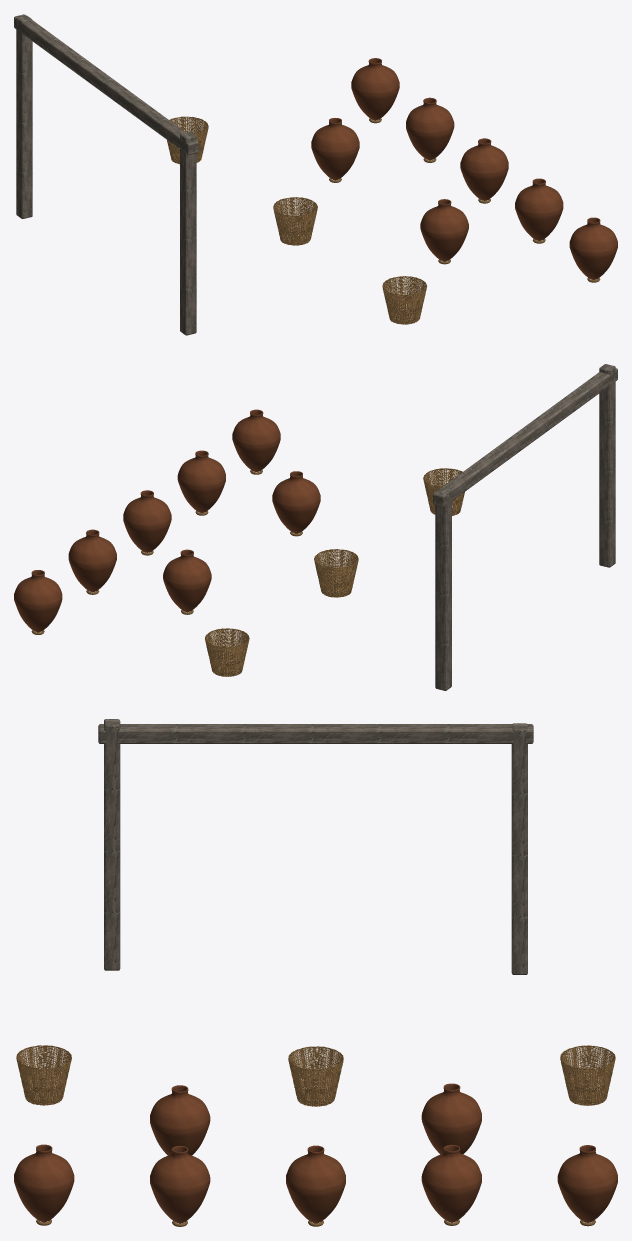
The model's file is storage.glb.
3 renders of one model, top to bottom at view 1: azimuth 30°, elevation 25°; view 2: azimuth 150°, elevation 25°; view 3: azimuth 270°, elevation 25°, orthographic. The views are drawn at different scales.
Parts seen in each view (by area): view 1: Storage rack beam, Storage rack upright.001, Storage rack upright, HERO | jar.013, HERO | jar.012, HERO | jar.009, HERO | jar.011, HERO | jar.008, HERO | jar.010, HERO | jar.014, HERO | basket fibres.008, HERO | basket fibres.009 (+1 smaller); view 2: Storage rack beam, Storage rack upright.001, Storage rack upright, HERO | jar.009, HERO | jar.012, HERO | jar.008, HERO | jar.010, HERO | jar.011, HERO | jar.014, HERO | jar.013, HERO | basket fibres.009, HERO | basket fibres.010 (+1 smaller); view 3: Storage rack beam, Storage rack upright, Storage rack upright.001, HERO | jar.008, HERO | jar.011, HERO | jar.010, HERO | jar.009, HERO | jar.012, HERO | jar.014, HERO | jar.013, HERO | basket fibres.009, HERO | basket fibres.008 (+1 smaller).
Boxes of the visible parts, box(x1,y1,x2,y2) form: Storage rack beam: box(14, 14, 198, 154); Storage rack upright.001: box(16, 15, 32, 218); Storage rack upright: box(180, 132, 196, 335); HERO | jar.013: box(420, 199, 468, 261); HERO | jar.012: box(351, 58, 399, 120); HERO | jar.009: box(515, 178, 563, 240); HERO | jar.011: box(406, 97, 454, 160); HERO | jar.008: box(569, 217, 617, 279); HERO | jar.010: box(460, 138, 508, 200); HERO | jar.014: box(311, 118, 359, 180); HERO | basket fibres.008: box(382, 276, 426, 324); HERO | basket fibres.009: box(273, 197, 317, 245); Storage rack beam: box(433, 368, 617, 506); Storage rack upright.001: box(435, 487, 451, 690); Storage rack upright: box(599, 364, 615, 567); HERO | jar.009: box(177, 450, 225, 512); HERO | jar.012: box(14, 570, 62, 632); HERO | jar.008: box(232, 409, 280, 471); HERO | jar.010: box(123, 490, 171, 552); HERO | jar.011: box(68, 529, 116, 592); HERO | jar.014: box(163, 549, 211, 612); HERO | jar.013: box(272, 471, 320, 533); HERO | basket fibres.009: box(314, 549, 358, 597); HERO | basket fibres.010: box(205, 628, 249, 676); Storage rack beam: box(98, 724, 533, 743); Storage rack upright: box(104, 719, 120, 970); Storage rack upright.001: box(511, 723, 527, 974); HERO | jar.008: box(14, 1144, 74, 1222); HERO | jar.011: box(421, 1144, 481, 1222); HERO | jar.010: box(286, 1145, 345, 1223); HERO | jar.009: box(150, 1145, 210, 1223); HERO | jar.012: box(557, 1145, 617, 1222); HERO | jar.014: box(421, 1083, 481, 1154); HERO | jar.013: box(150, 1085, 210, 1155); HERO | basket fibres.009: box(288, 1046, 343, 1106); HERO | basket fibres.008: box(16, 1045, 71, 1105).
Bounding box in the file's own units: 4.28 × 2.21 × 4.44.
3 materials, 3 textured.
